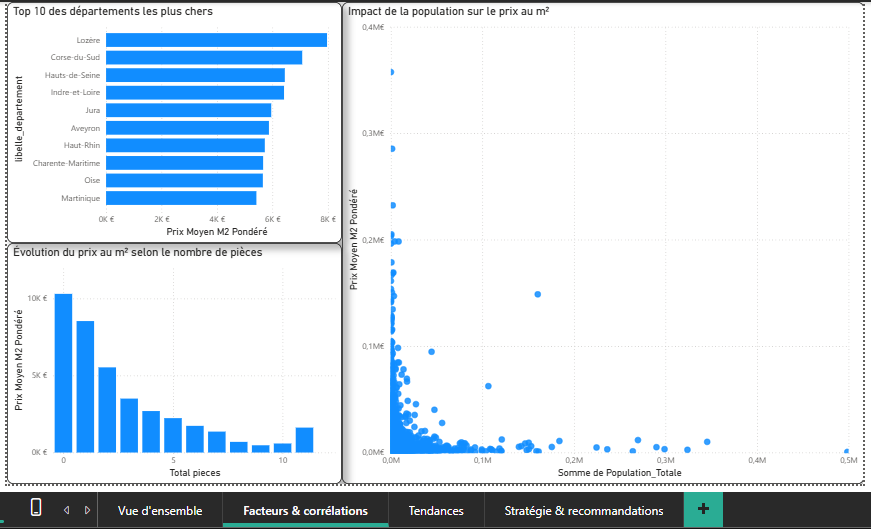

What the dashboard file says about the page in this screenshot:
{"tool":"powerbi","page":{"name":"Facteurs & corrélations","canvas":[1280,720],"ordinal":1},"visuals":[{"type":"scatterChart","title":"Impact de la population sur le prix au m²","fields":{"X":["Sum(Commune.Population_Totale)"],"Category":["Commune.nom_commune"],"Y":["Ventes.Prix Moyen M2 Pondéré"]},"box":[500.4,0,779.8,720],"z":0},{"type":"clusteredColumnChart","title":"Évolution du prix au m² selon le nombre de pièces","fields":{"Category":["Bien.Total pieces"],"Y":["Ventes.Prix Moyen M2 Pondéré"]},"box":[0,360,500.4,360],"z":1},{"type":"barChart","title":"Top 10 des départements les plus chers","fields":{"Category":["Departement.libelle_departement"],"Y":["Ventes.Prix Moyen M2 Pondéré"]},"box":[0,0,500.4,360],"z":2}]}

Visuals, with their boxes in screenshot pixels (x1, y1, x2, y2):
"Impact de la population sur le prix au m²" scatterChart: (338, 0, 861, 483)
"Évolution du prix au m² selon le nombre de pièces" clusteredColumnChart: (2, 242, 338, 483)
"Top 10 des départements les plus chers" barChart: (2, 0, 338, 242)
